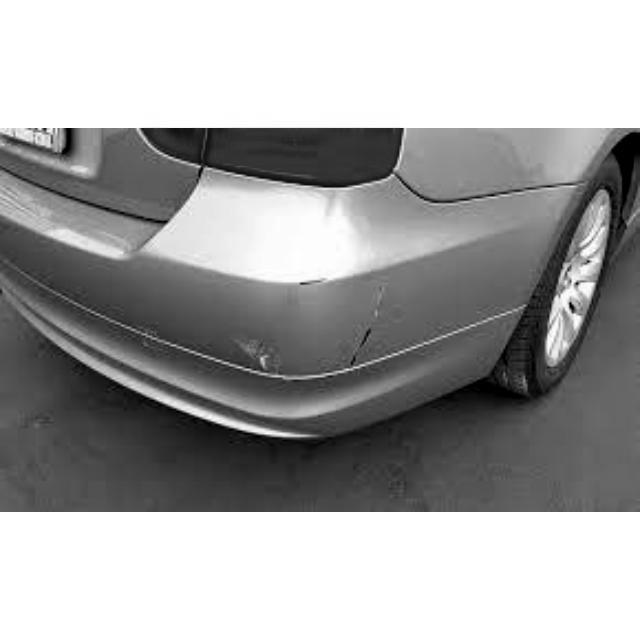rear-bumper-dent: (106, 247, 390, 421)
